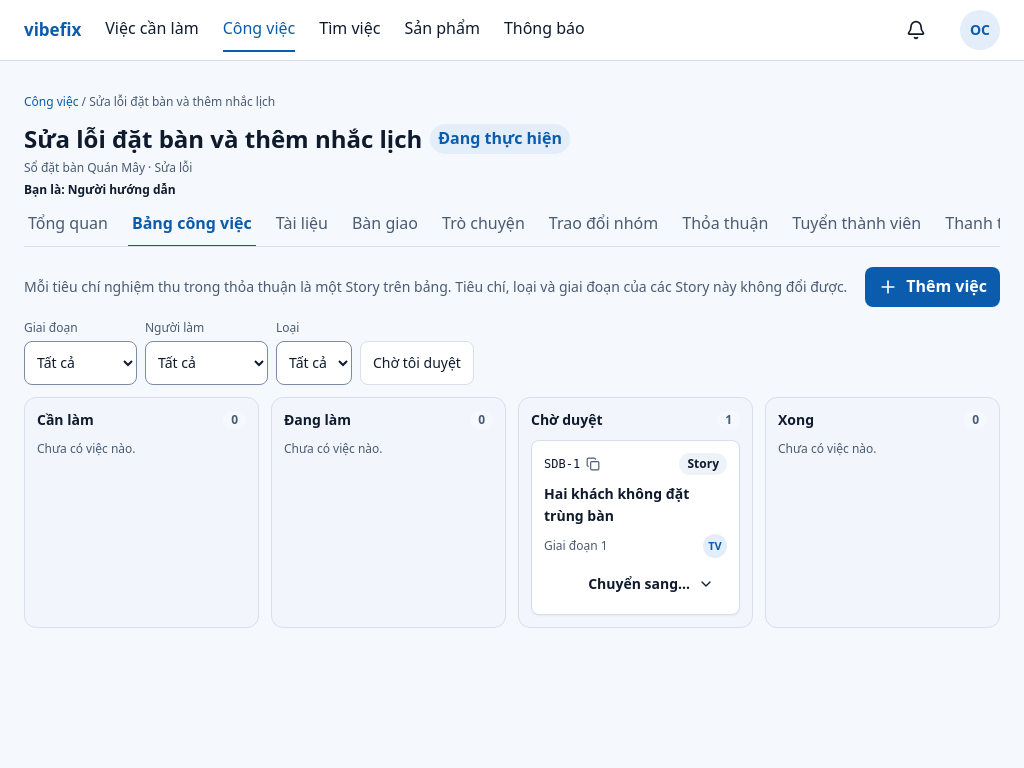
it: Attachments and notes on JOB-2 (FR-76, AD-39, UX-DR79) › shows the Mentor the Attachments and the latest notes in the Review dialog, read-only
Click the button with aria-label "Chuyển SDB-1 sang…" at x=651, y=584, box [575,566,727,602]
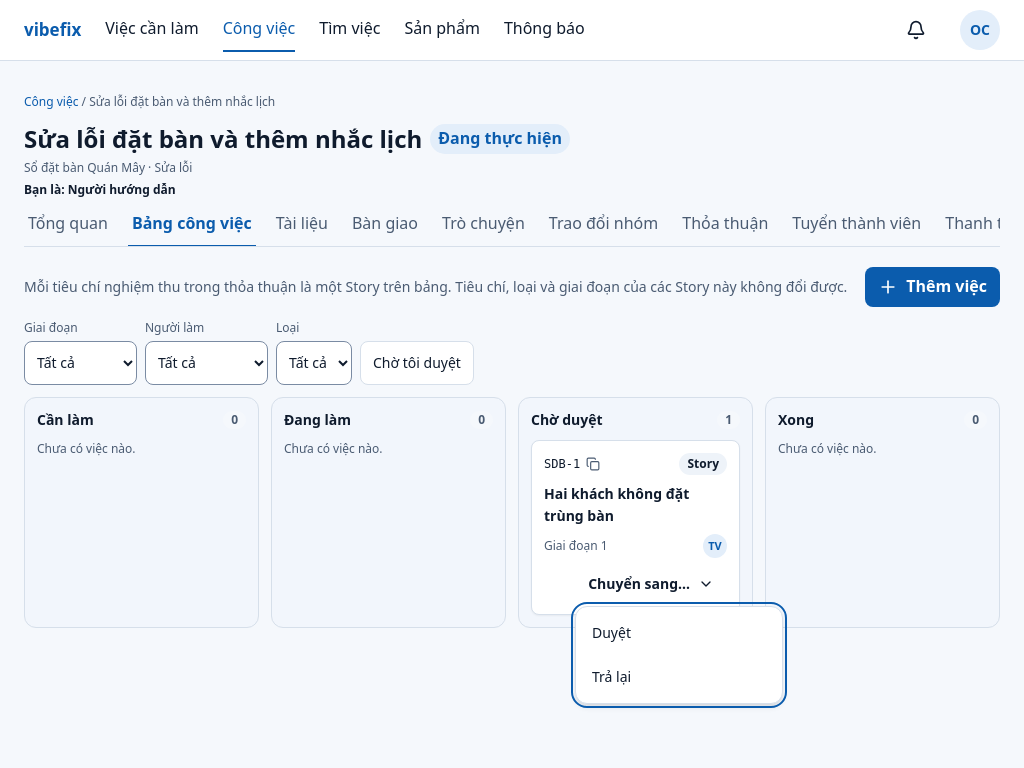
Click the menu item "Duyệt" at x=612, y=633, box [592,623,631,642]
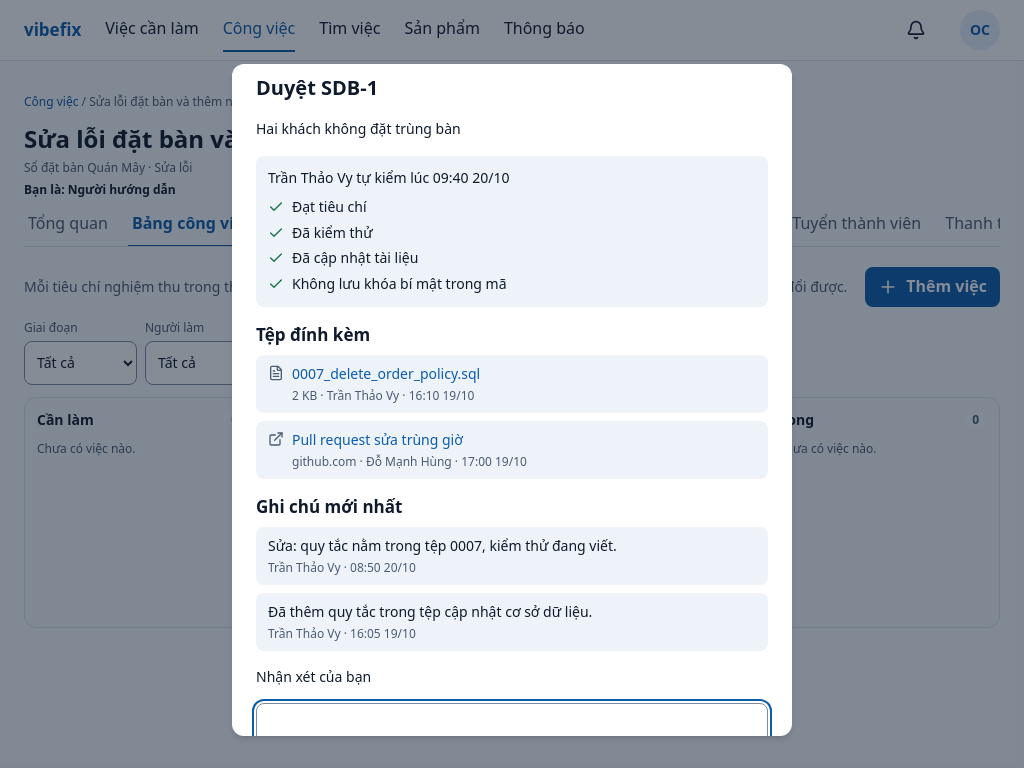
Now the link "0007_delete_order_policy.sql" is shown, box [292,363,480,385]
Now the link "Pull request sửa trùng giờ" is shown, box [292,429,527,451]
Now the 7th list item shows "Sửa: quy tắc nằm trong tệp 0007, kiểm thử đang viết.", box [268,536,617,555]
